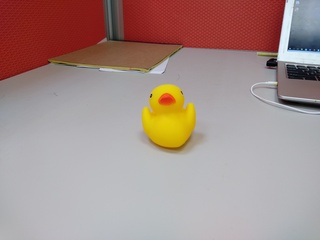duck: (138, 78, 201, 153)
